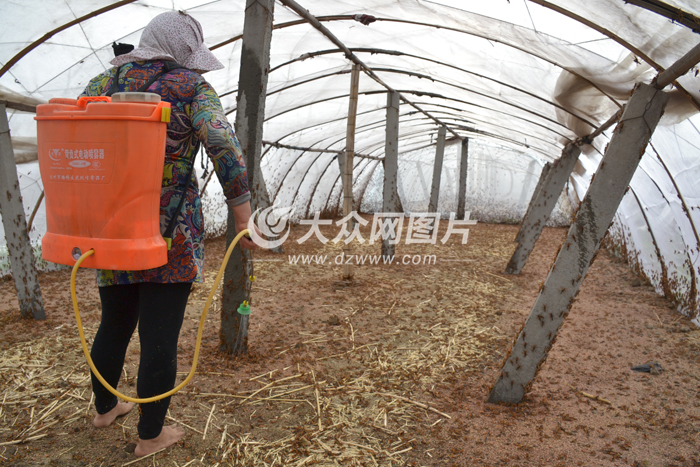berrl: (33, 93, 173, 271)
